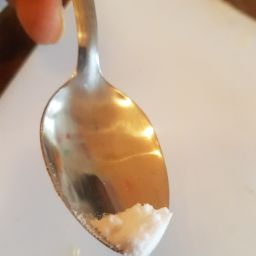Baking powder: (21, 103, 234, 256)
